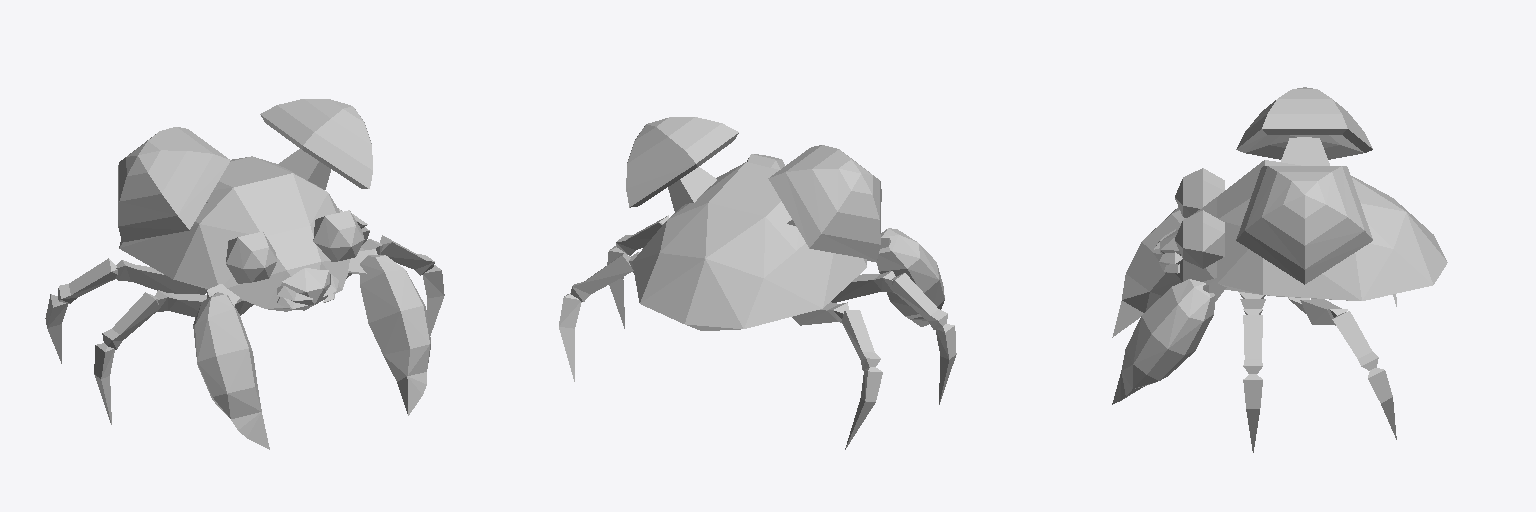
File: Paras.obj
3 views of the same model, side by side, from view 1: azimuth 30°, elevation 25°; view 2: azimuth 150°, elevation 25°; view 3: azimuth 270°, elevation 25° (orthographic).
Bounding box in the file's own units: 3.24 × 2.22 × 2.74.